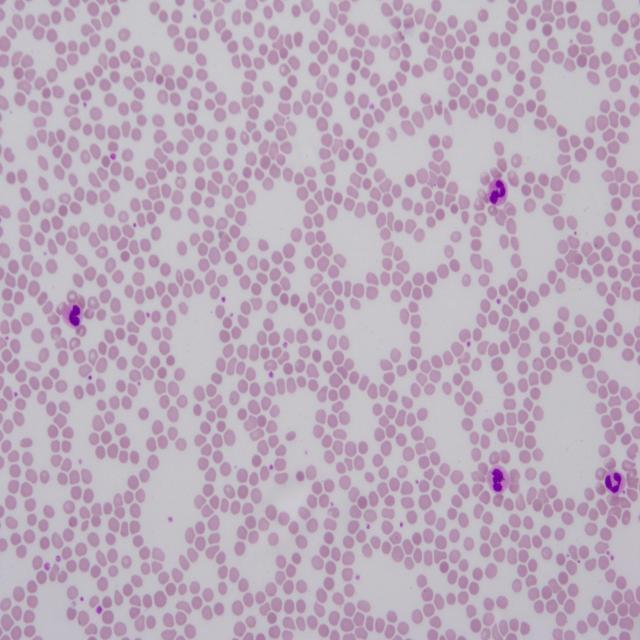cell: (486, 465, 510, 492), (488, 178, 508, 206), (604, 469, 625, 494)
